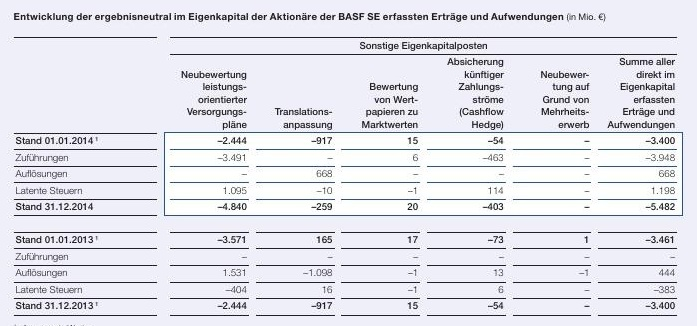table: (0, 0, 697, 326)
